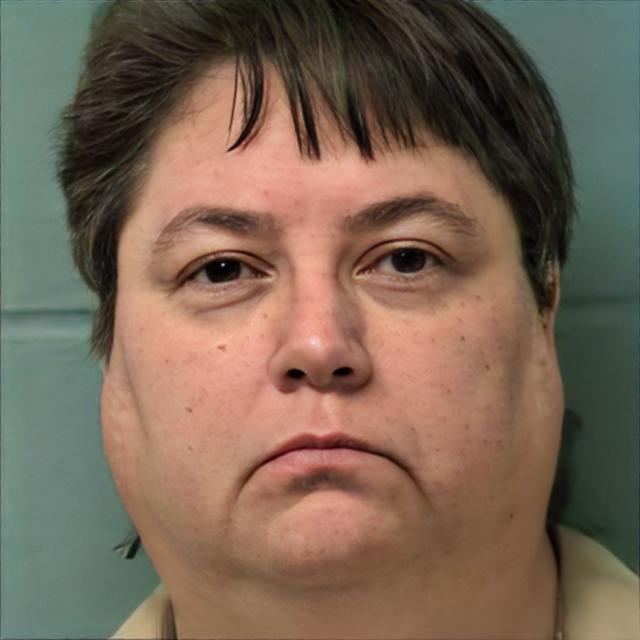anger: (114, 36, 530, 578)
